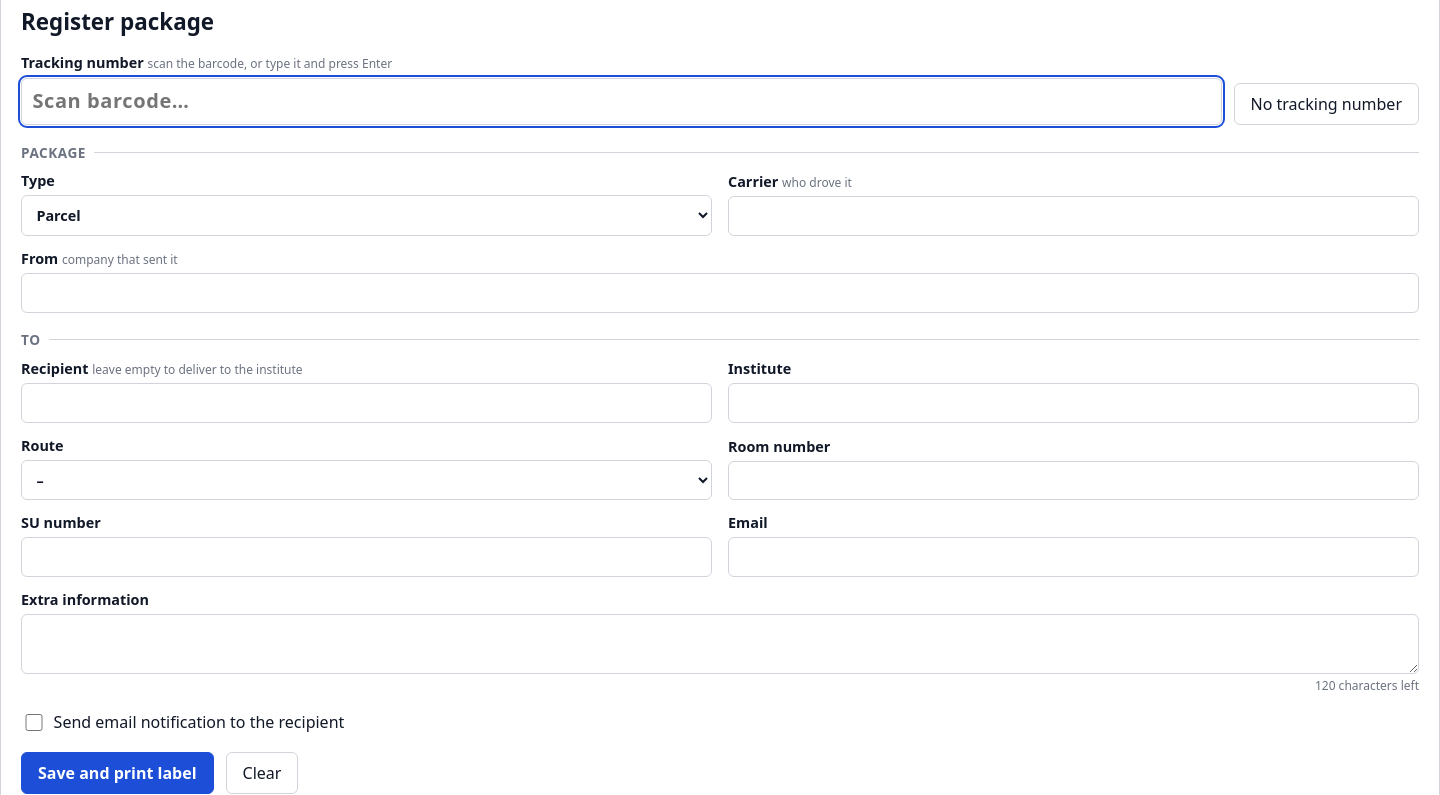
Test: a failing lookup does not block registration
The width and height of the screenshot is (1440, 795).
In the field labelled "Tracking number scan the barcode, or type it and press Enter": [621, 101] box [21, 78, 1222, 125], type "X"
Then press Enter
(page scrolled)
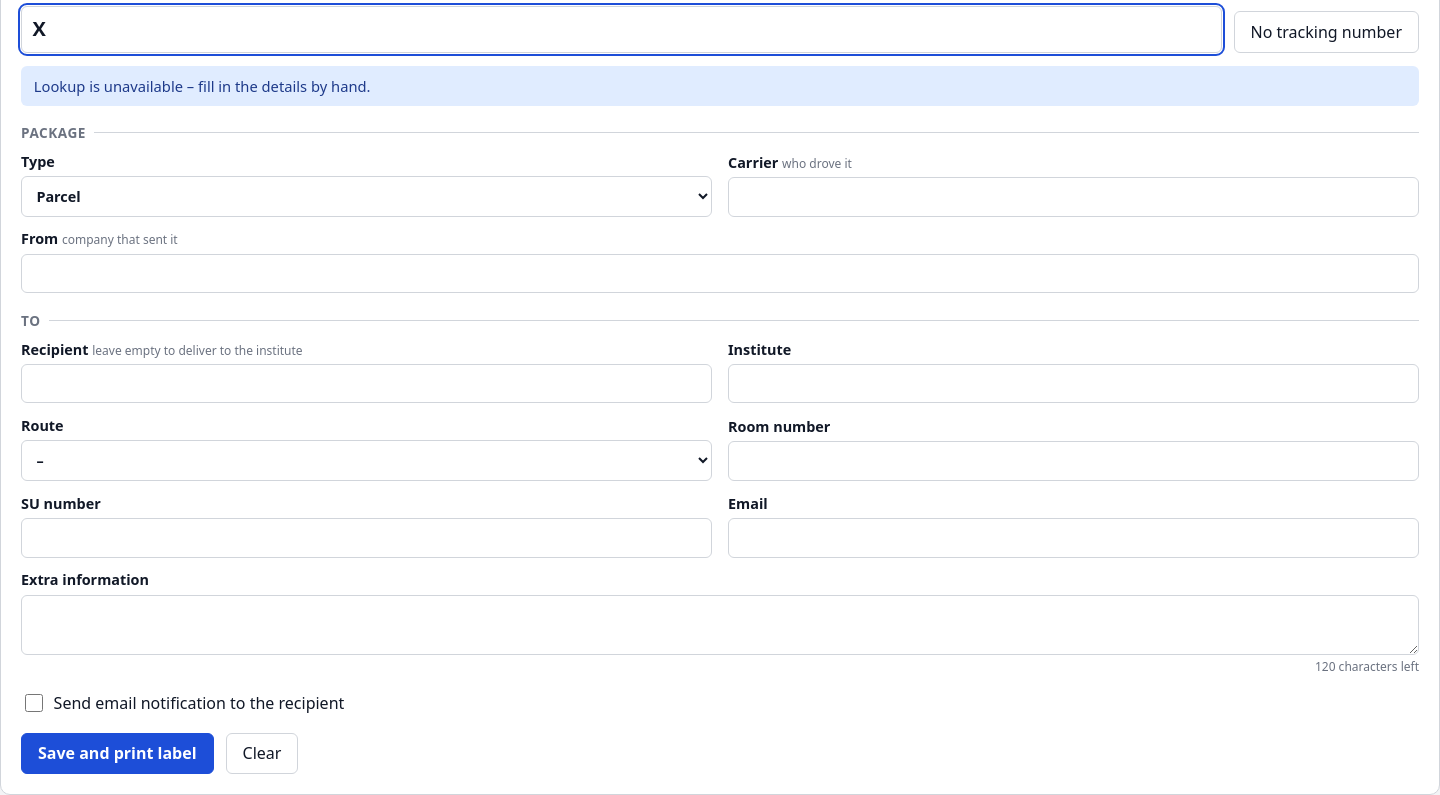
Expected: the button "Save and print label" is enabled, [21, 732, 214, 774]
Expected: the text "Lookup is unavailable – fill in the details by hand." is shown, [21, 66, 1419, 106]
